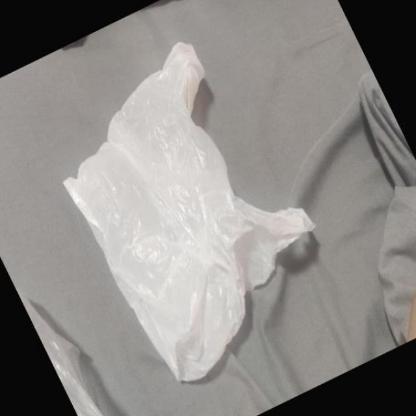Plastic Bag: (62, 38, 316, 382)
